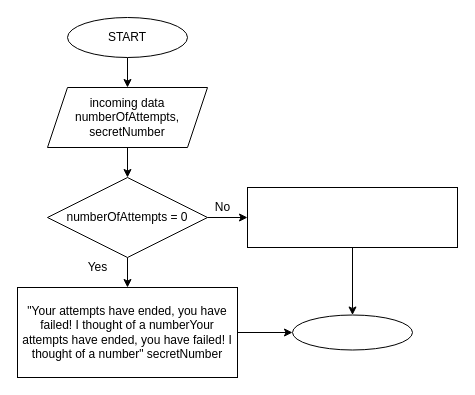
This 475x395 diagram has some shape labels left out. Here are the shapes that lost their labels. From the top down, the centre of each, then its label:
(x=352, y=217): " You guessed the hidden number! " + secretNumber +" You are a winner! !"
(x=352, y=332): END
